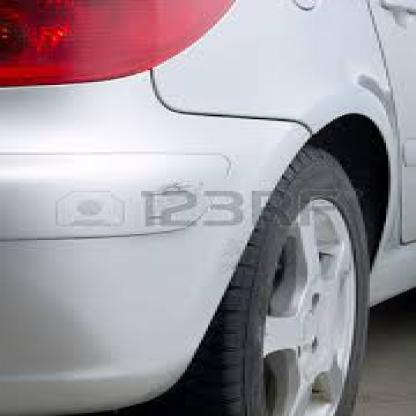dent: (113, 164, 240, 233)
